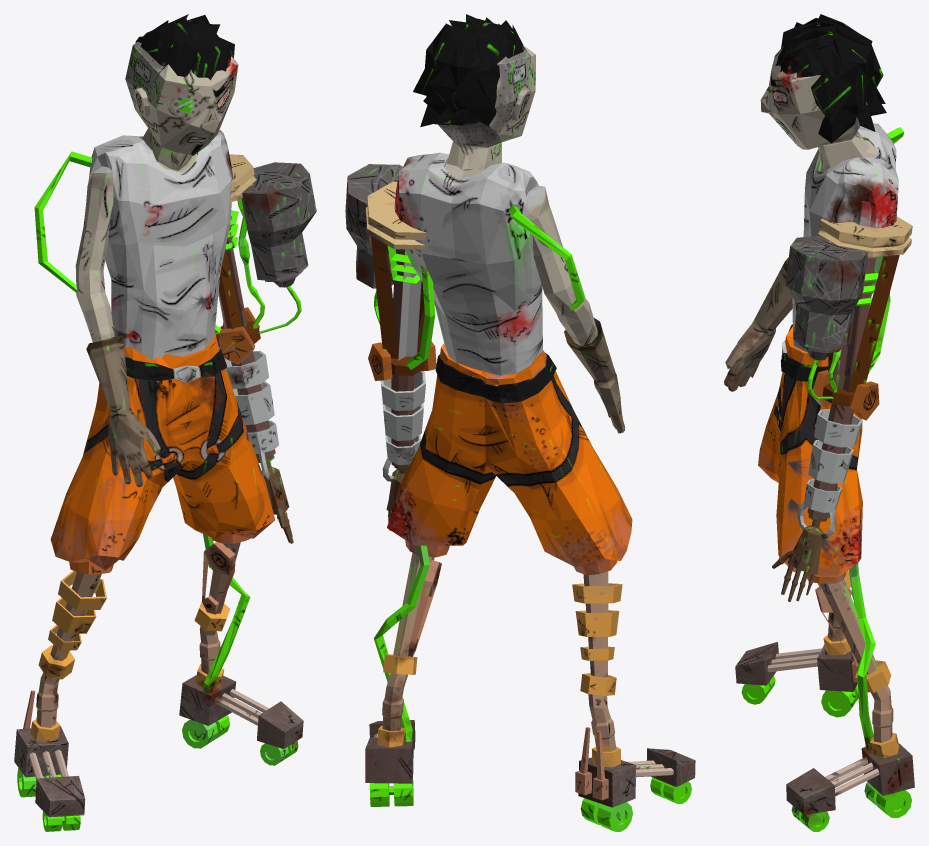
Rendered from CyborgFINALAnimation_000146.obj.
3 views of the same model, side by side, from view 1: azimuth 30°, elevation 25°; view 2: azimuth 150°, elevation 25°; view 3: azimuth 270°, elevation 25° (orthographic). The views are drawn at different scales.
Parts seen in each view (by area): view 1: CyborgMesh_Cube.002; view 2: CyborgMesh_Cube.002; view 3: CyborgMesh_Cube.002.
Part boxes in pixels (<box>): CyborgMesh_Cube.002: <box>14,14,316,831</box>; CyborgMesh_Cube.002: <box>345,14,695,831</box>; CyborgMesh_Cube.002: <box>724,14,914,831</box>.
Bounding box in the file's own units: 4 × 9.65 × 2.19.
